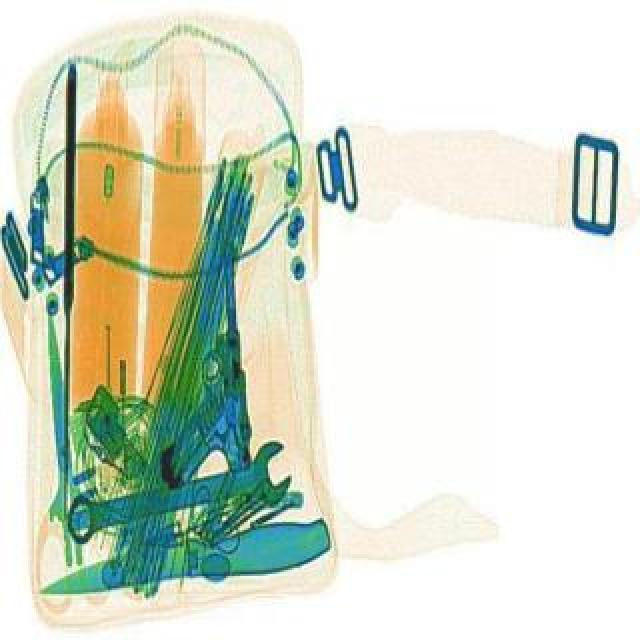gun: (126, 240, 260, 488)
knife: (34, 510, 332, 606), (40, 308, 84, 566), (60, 60, 76, 518)
scissors: (56, 432, 298, 548)
